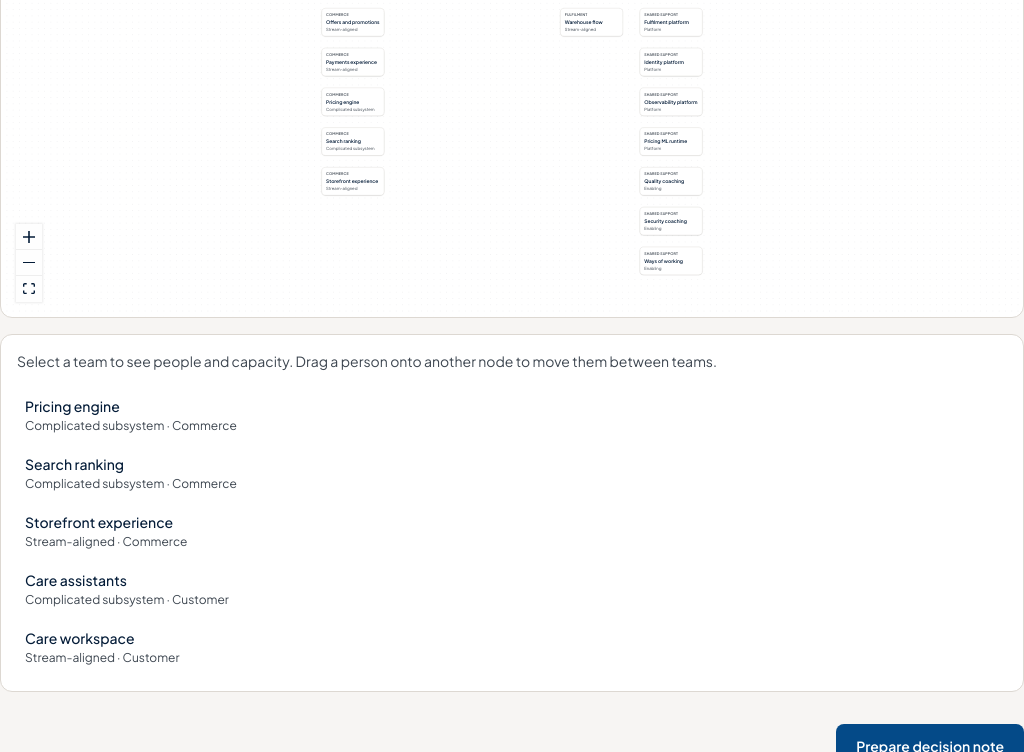
Test case: OrganisationPage › defaults collaboration start date to today when adding a relationship
(page scrolled)
Click the button "Storefront experience Stream-aligned · Commerce".
click(99, 522)  # box [17, 504, 1007, 558]
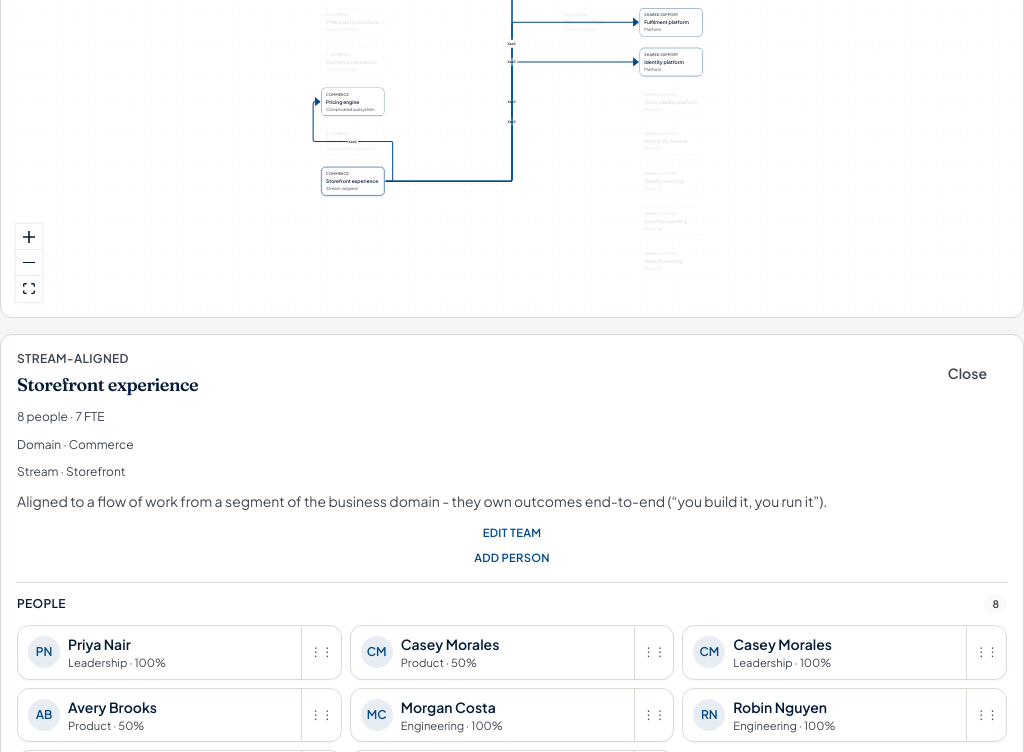
Click the button with test id "organisation-edit-team-team_storefront".
click(512, 533)  # box [17, 524, 1007, 541]
(page scrolled)
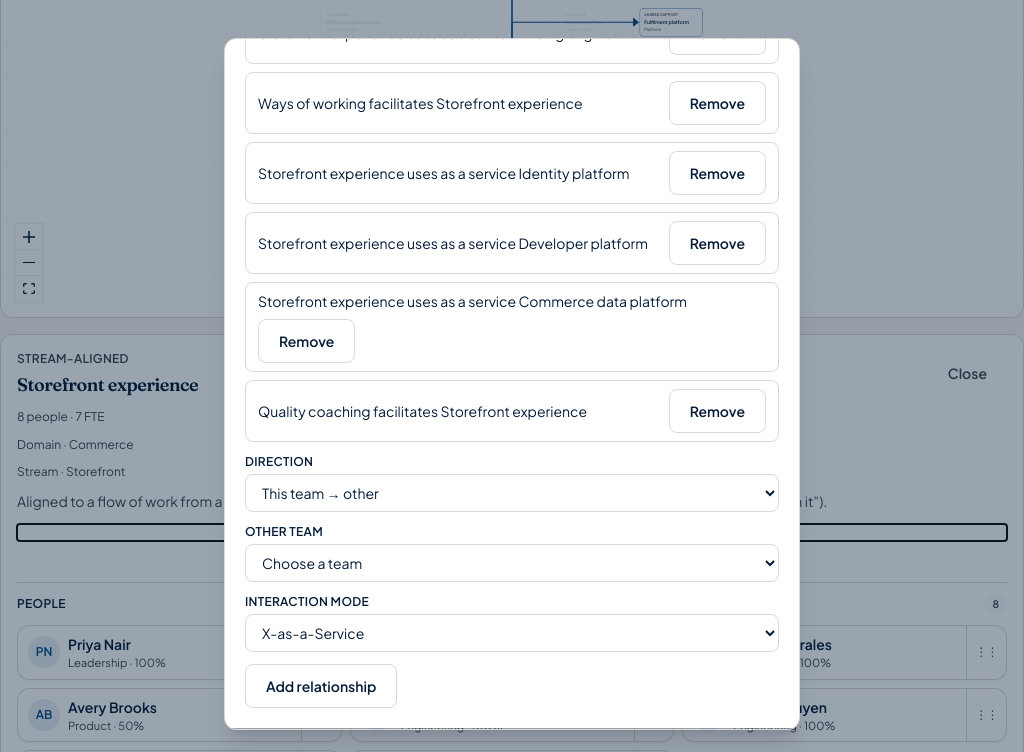
Select "Observability platform" in the dropdown labelled "Other team" at coordinates (512, 563), box [245, 544, 779, 582]
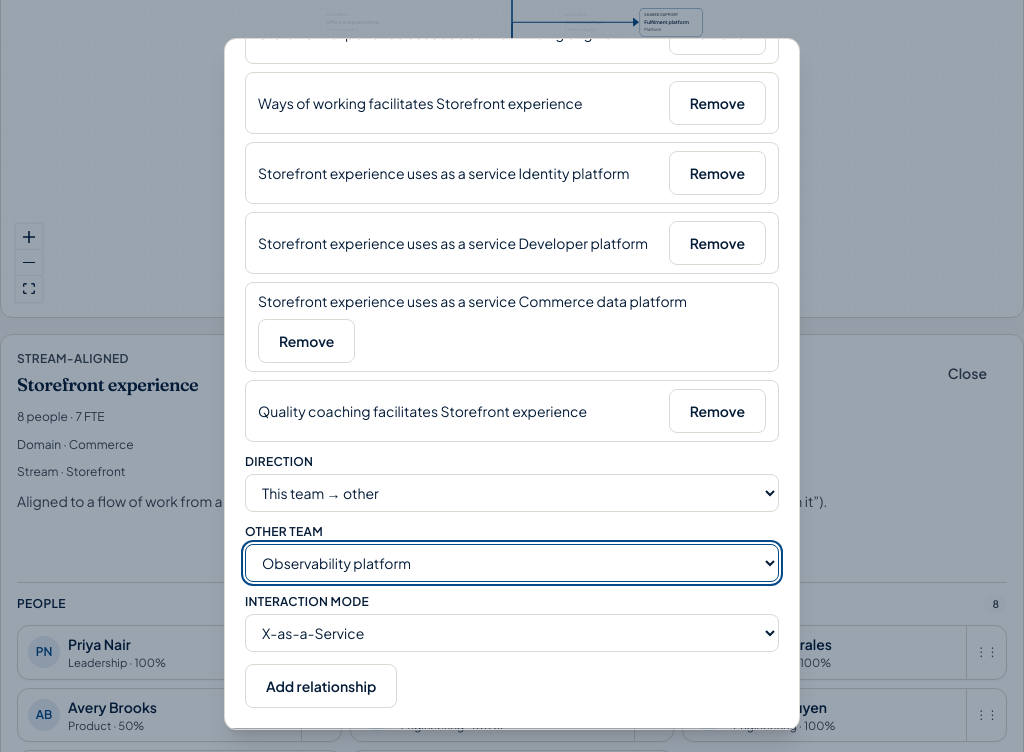
Select "Collaboration" in the dropdown labelled "Interaction mode" at coordinates (512, 633), box [245, 614, 779, 652]
(page scrolled)
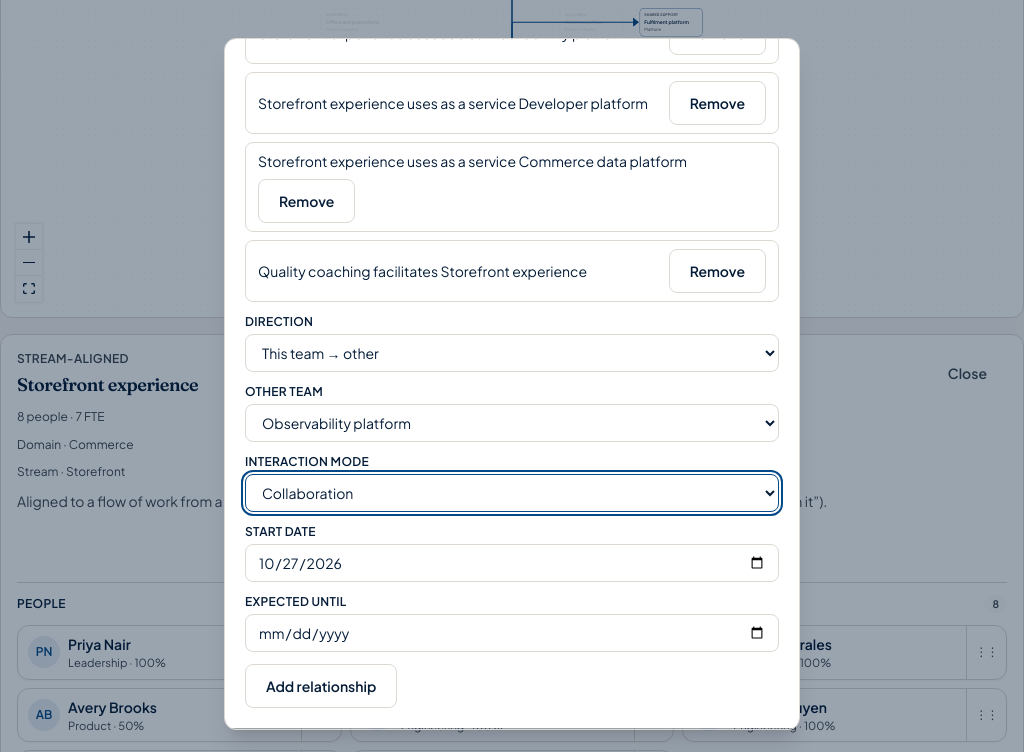
Type "2026-12-31" into the date field labelled "Expected until".
click(512, 633); type("2026-12-31")  # box [245, 614, 779, 652]
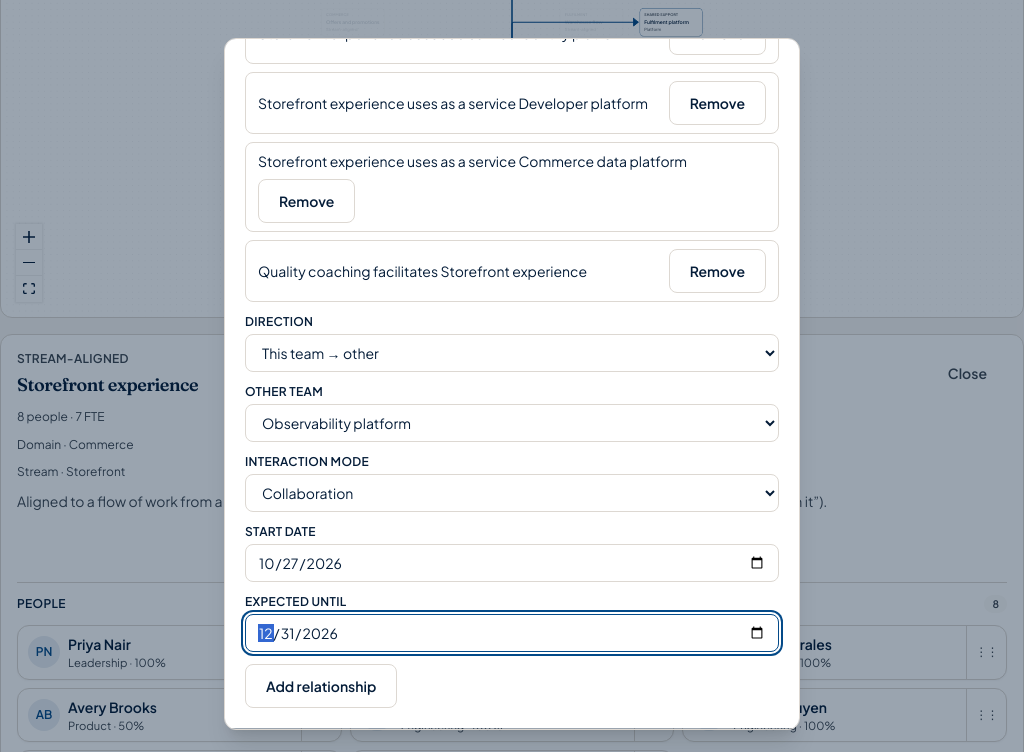
Click the button "Add relationship".
click(321, 686)  # box [245, 664, 397, 708]
(page scrolled)
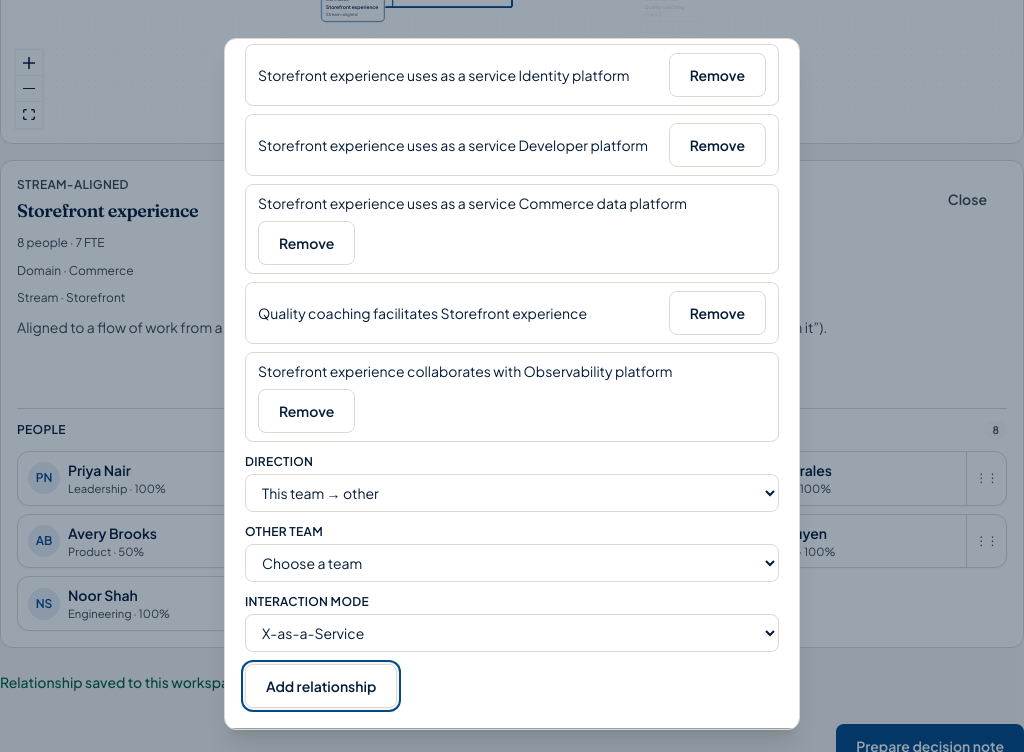
Now the text "Relationship saved to this workspace session." is shown, box [0, 673, 304, 691]
